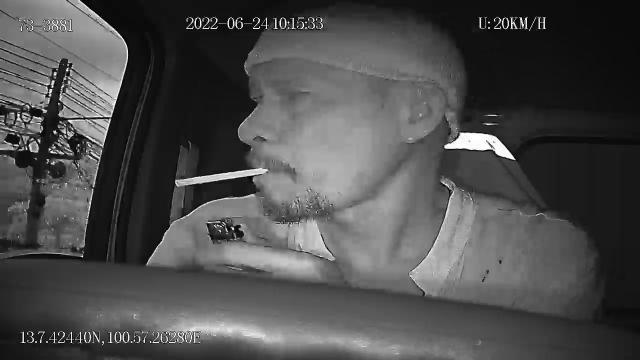Smoking: (174, 164, 272, 187)
